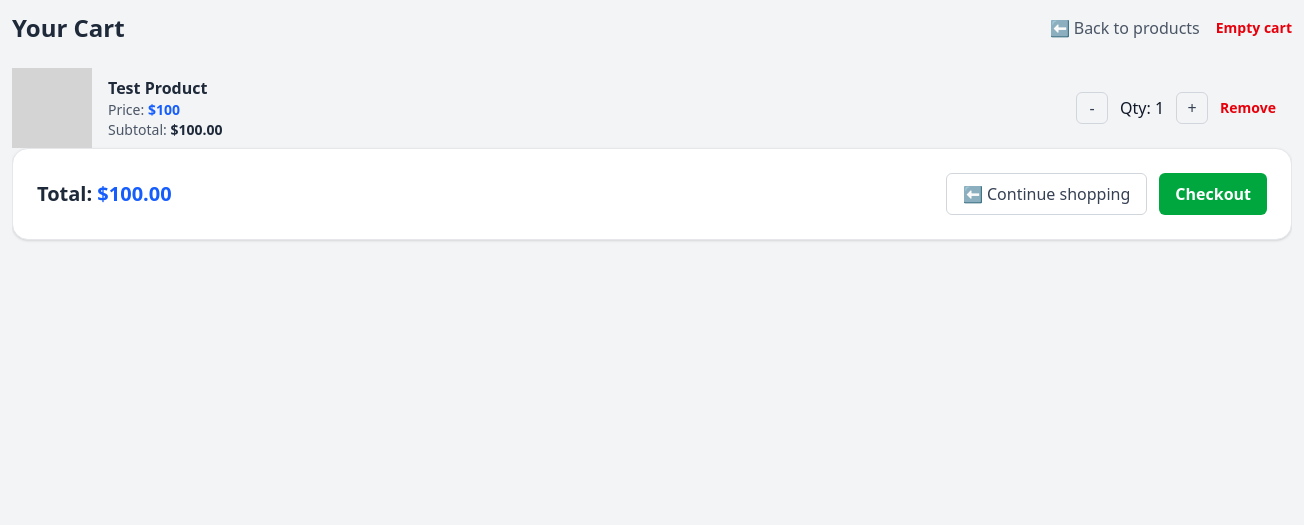
Scenario: removes item when clicking - and quantity is 1
Expected: the heading "Test Product" is shown, x1=108 y1=77 x2=207 y2=99
Click the button "-" at (1092, 108), box x1=1076 y1=92 x2=1108 y2=124
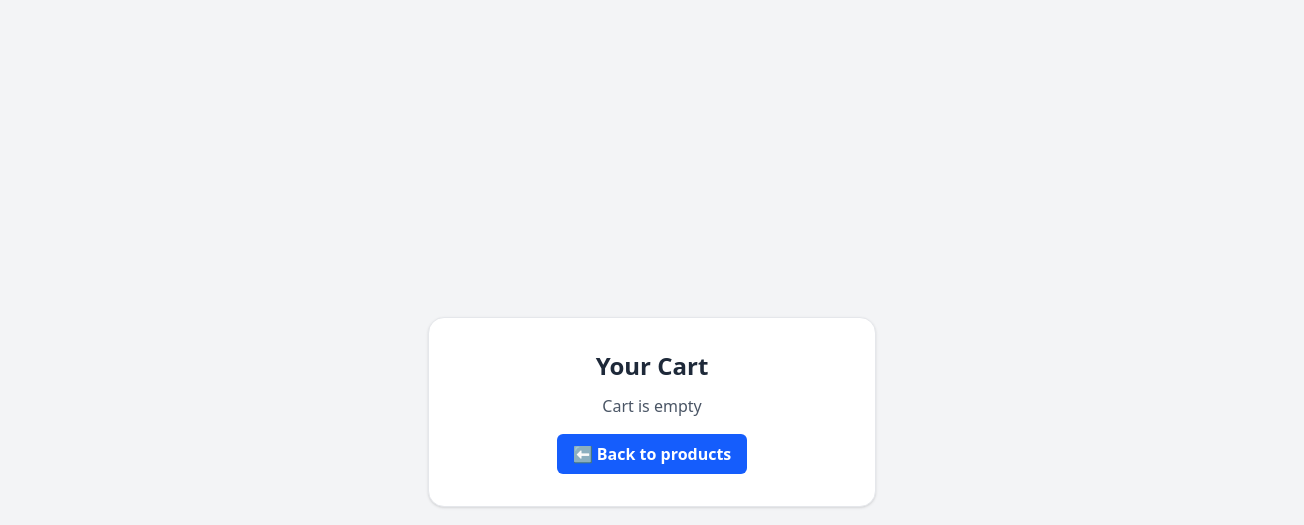
Expected: the text "Cart is empty" is shown, x1=602 y1=395 x2=702 y2=417
Expected: the heading "Test Product" is gone
